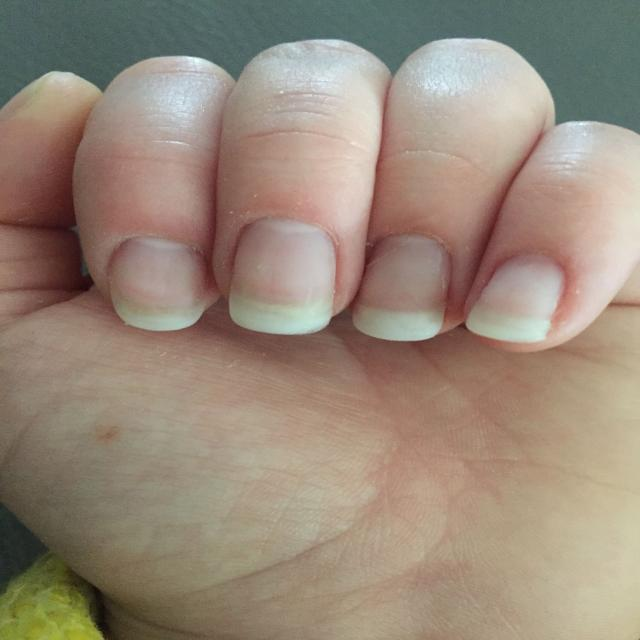Fingernail: (230, 219, 335, 335), (354, 235, 448, 341), (110, 238, 208, 330), (467, 255, 564, 342)
